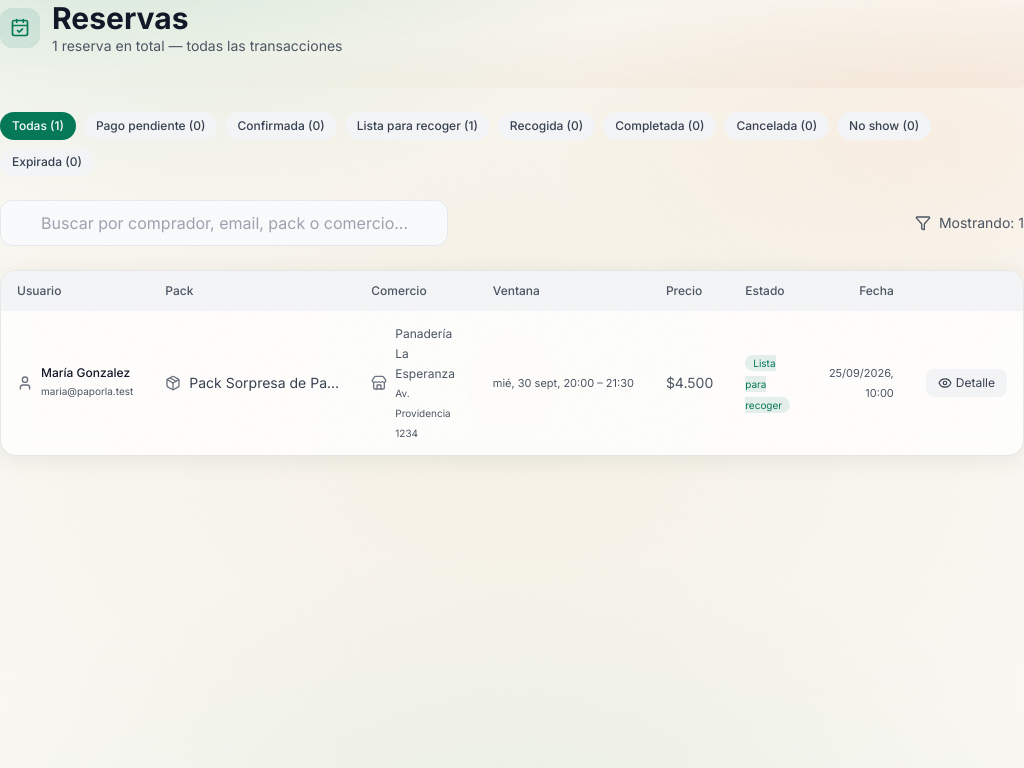
AdminReservationsPage (ADMIN-1) › sin resultados muestra estado honesto y "Limpiar filtros" restaura
In the field with placeholder "Buscar por comprador, email, pack o comercio...": (224, 223) x1=0 y1=200 x2=448 y2=246, type "zzz-sin-coincidencias"
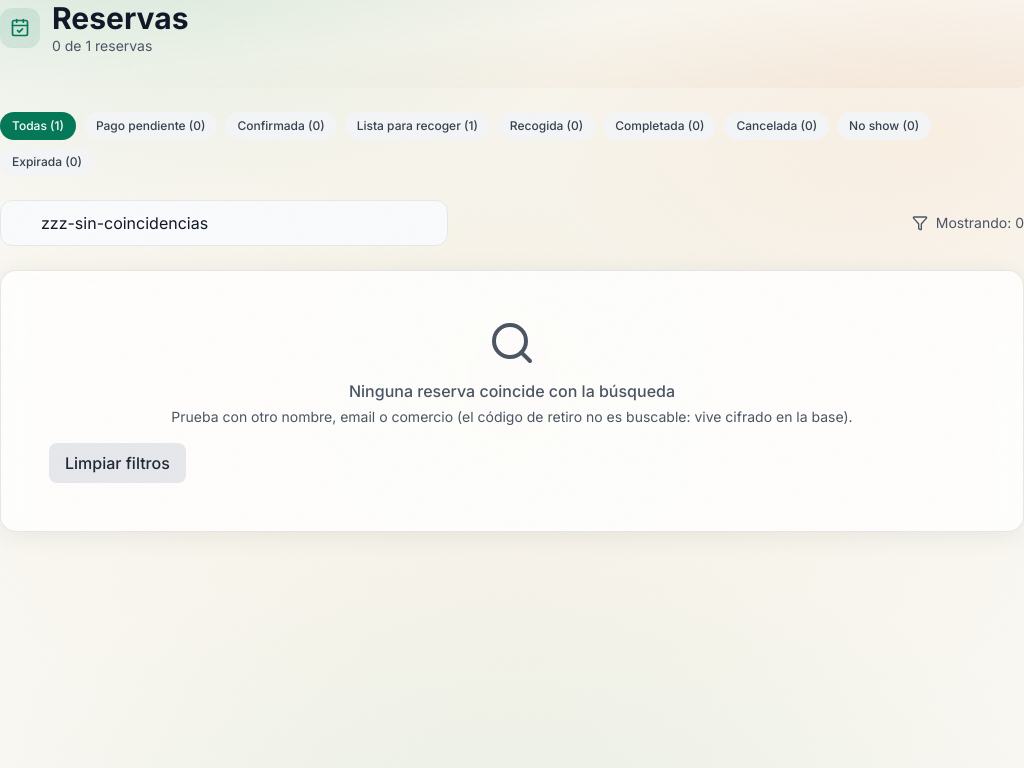
Check: the text "Ninguna reserva coincide con la búsqueda" is shown, box x1=349 y1=381 x2=675 y2=401
Click the button "Limpiar filtros": (117, 463) x1=49 y1=443 x2=186 y2=483
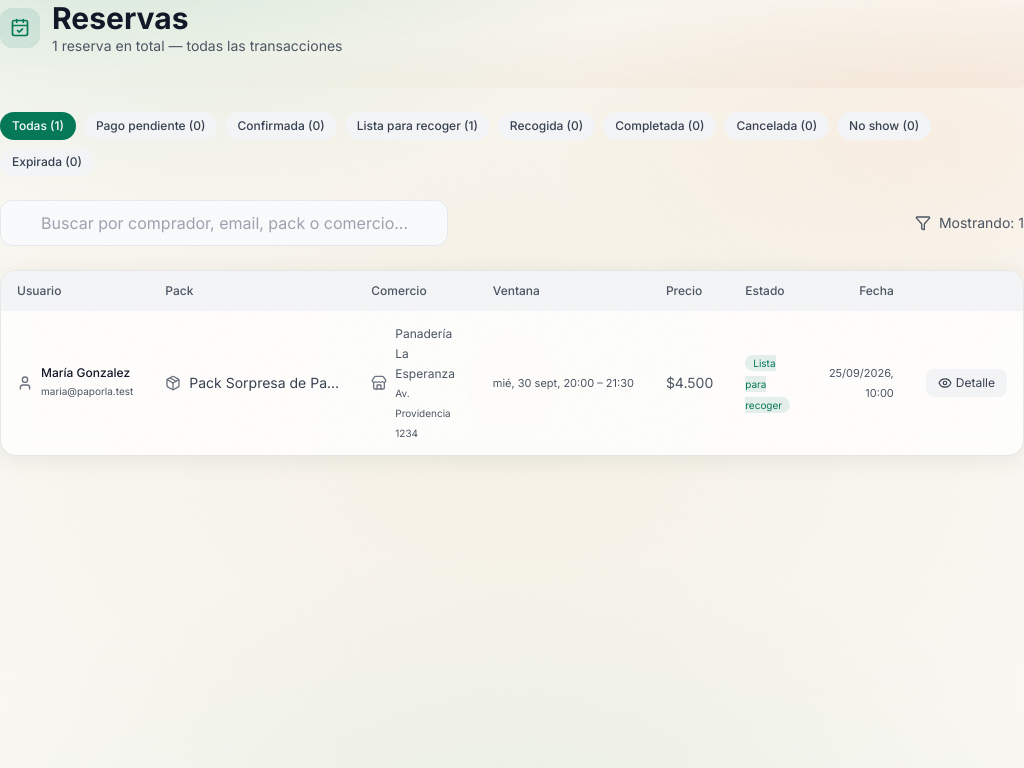
Check: the text "María Gonzalez" is shown, box x1=41 y1=365 x2=133 y2=381
Check: the text "1 reserva en total — todas las transacciones" is shown, box x1=52 y1=36 x2=342 y2=56
